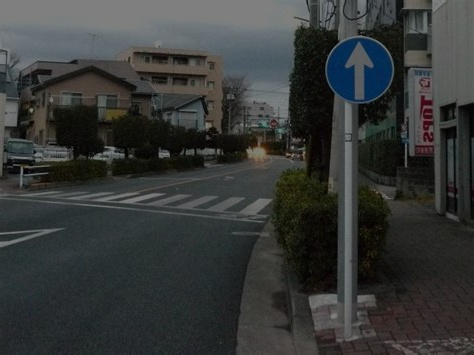Direction_sign: (319, 34, 400, 104)
